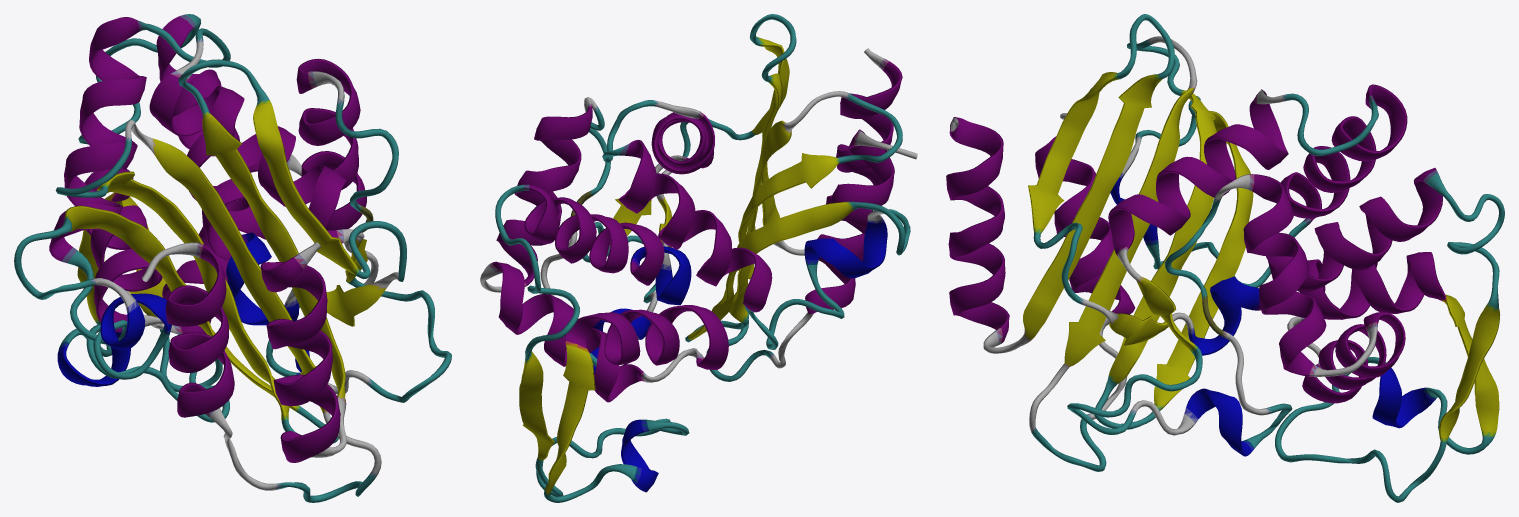
Rendered from animate.0011.obj.
3 views of the same model, side by side, from view 1: azimuth 30°, elevation 25°; view 2: azimuth 150°, elevation 25°; view 3: azimuth 270°, elevation 25° (orthographic). The views are drawn at different scales.
Visible parts, largest first — view 1: vmd_mol0_rep0; view 2: vmd_mol0_rep0; view 3: vmd_mol0_rep0.
Boxes of the visible parts, x1,y1,x2,y2 form: vmd_mol0_rep0: (14,14,451,502); vmd_mol0_rep0: (480,14,917,502); vmd_mol0_rep0: (946,14,1504,502).
Bounding box in the file's own units: 1.02 × 1.12 × 1.32.
